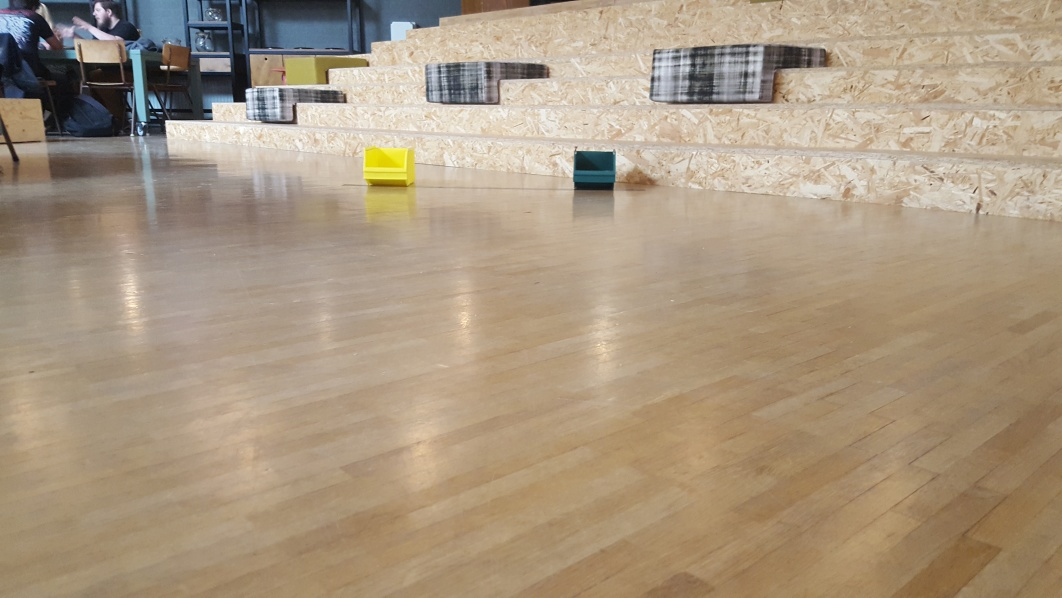tray: (361, 142, 415, 182), (573, 148, 618, 188)
